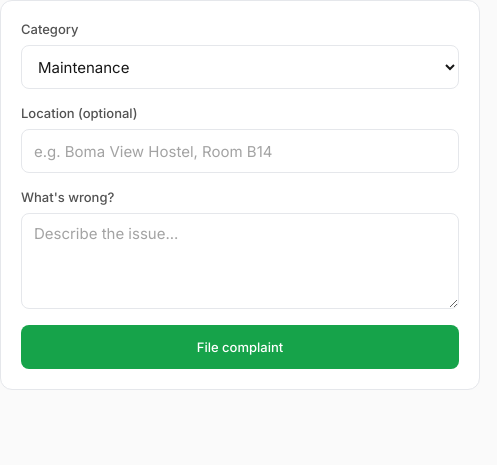
Test case: ComplaintForm › rejects a description that is too short instead of calling onSubmit
This screenshot has width=497, height=465.
Type "too short" into the text box labelled "What's wrong?" at x=240, y=261, box [21, 213, 459, 309]
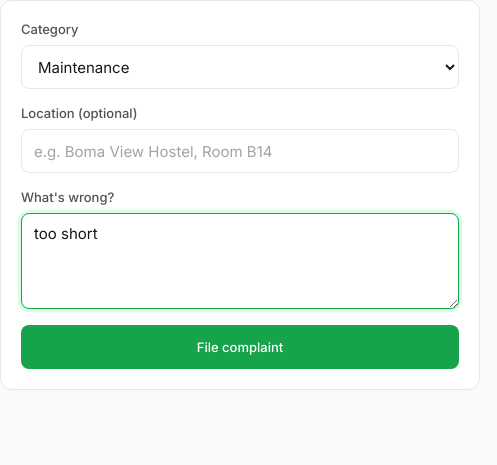
Click the button "File complaint" at x=240, y=347, box [21, 325, 459, 369]
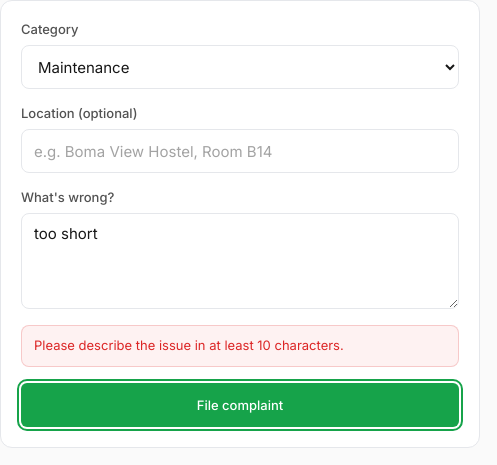
Expected: the text "Please describe the issue in at least 10 characters." is shown, [21, 325, 459, 366]
